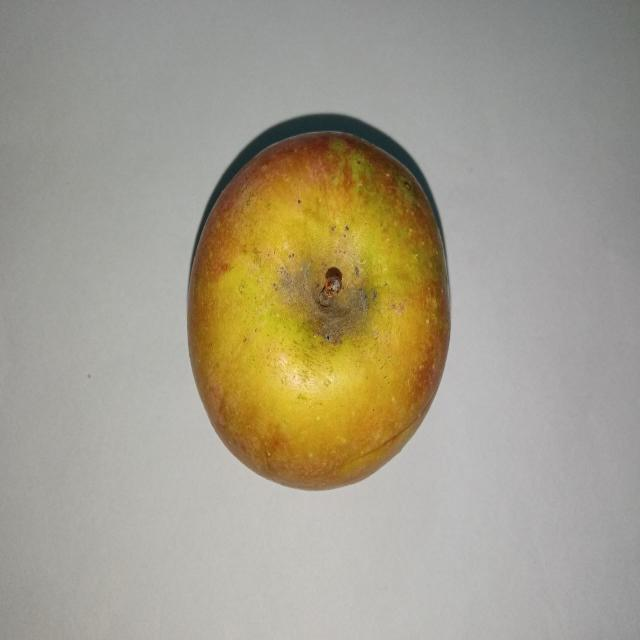fresh_apple: (187, 131, 449, 488)
